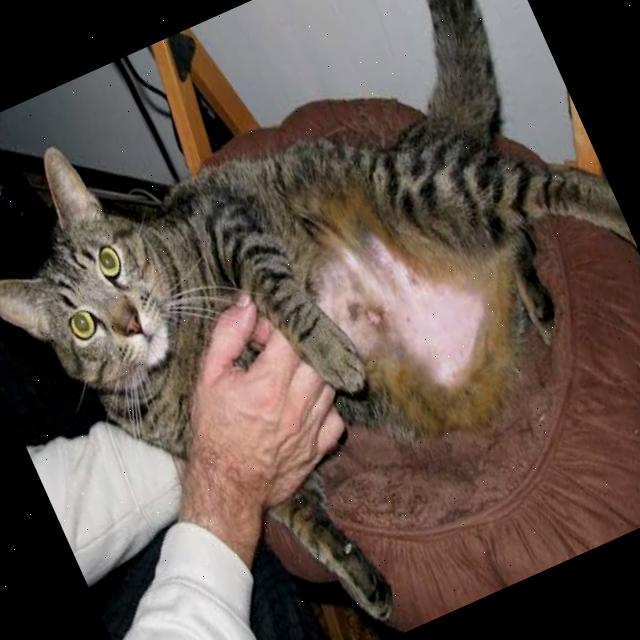cat-hairloss: (326, 234, 486, 396)
